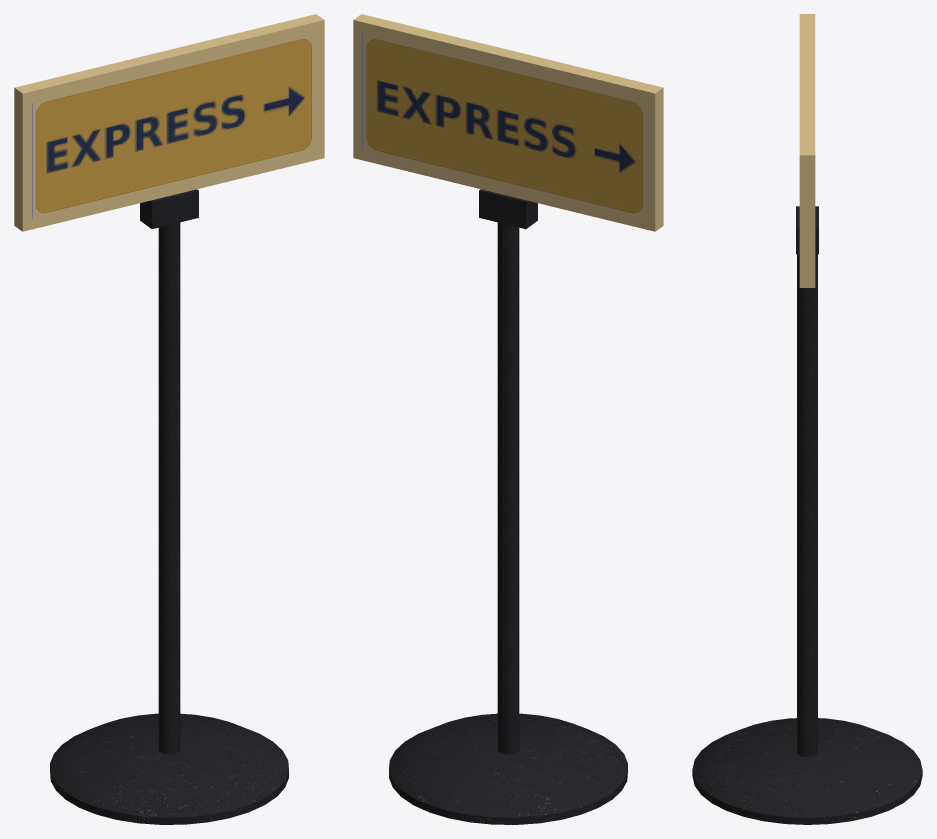
Rendered from SM_QUE_Sign_Express.fbx.
3 views of the same model, side by side, from view 1: azimuth 30°, elevation 25°; view 2: azimuth 150°, elevation 25°; view 3: azimuth 270°, elevation 25° (orthographic). The views are drawn at different scales.
Visible parts, largest first — view 1: SM_QUE_Sign_Express; view 2: SM_QUE_Sign_Express; view 3: SM_QUE_Sign_Express.
Part boxes in pixels (x1,y1,x2,y2): SM_QUE_Sign_Express: (14, 14, 324, 824); SM_QUE_Sign_Express: (353, 14, 663, 824); SM_QUE_Sign_Express: (692, 14, 922, 824).
Size of the model in its own units: 0.64 by 1.46 by 0.44.
